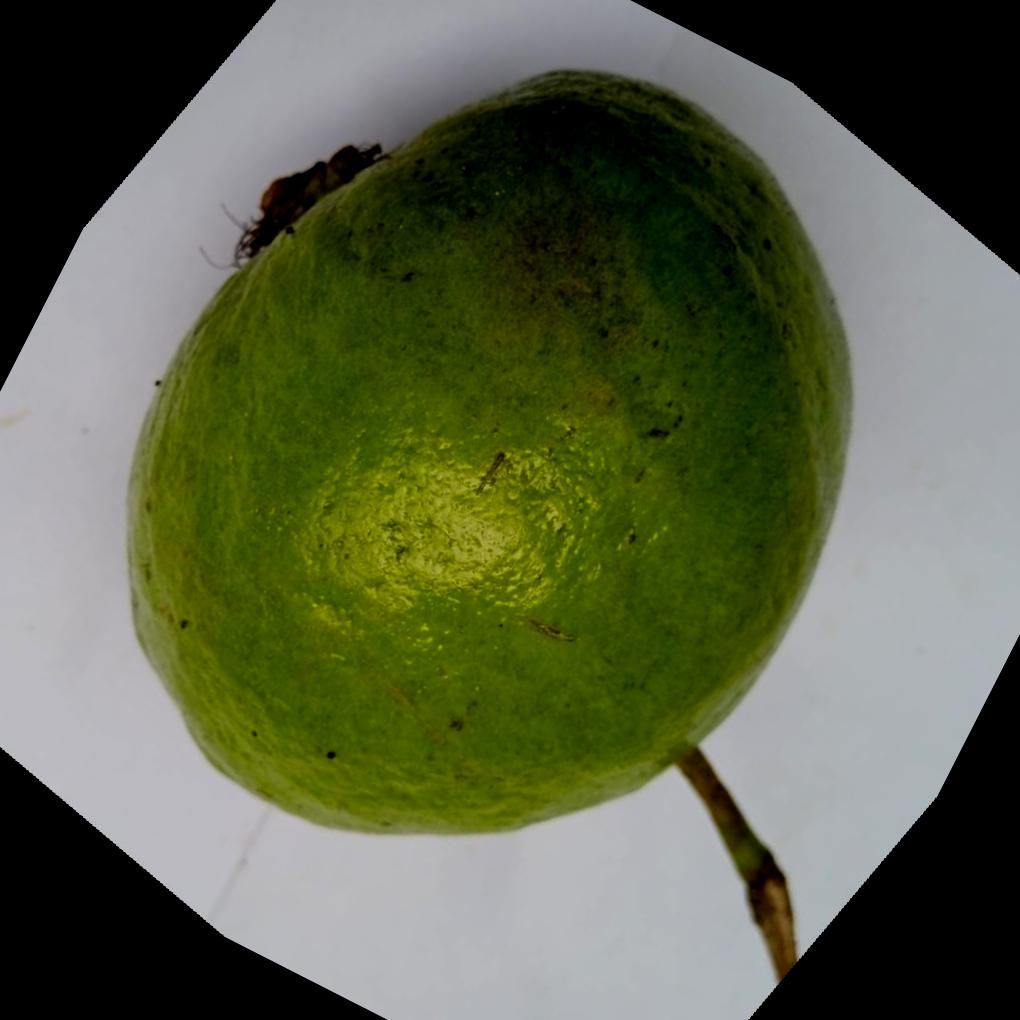FreshGuava: (124, 63, 856, 834)
